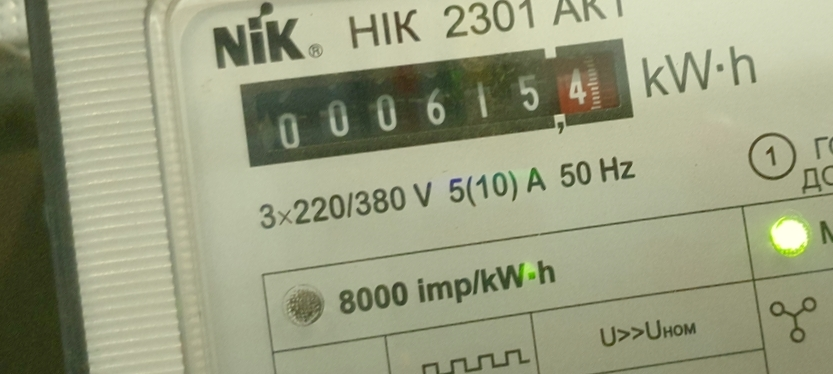0: (273, 109, 303, 152), (372, 91, 400, 136), (324, 97, 351, 139)
1: (474, 79, 491, 121)
4: (564, 66, 588, 108)
5: (515, 71, 542, 115)
6: (421, 86, 449, 128)
screen: (224, 26, 648, 181)
